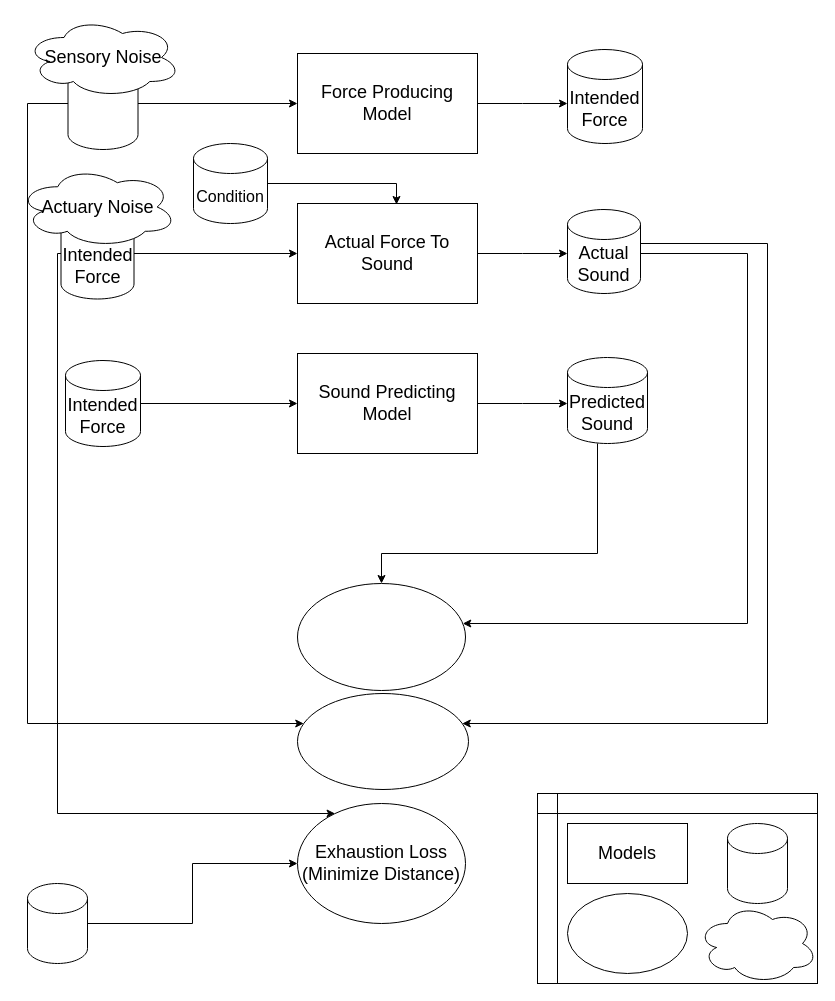
Some shapes in this 835 by 1001 pixel diagram are drawn without their labels. The box of each missing label's shape, as (x1, y1, x2, y2) in pixels:
Instinct: (26, 882, 88, 964)
Losses: (566, 892, 688, 974)
Noise: (696, 902, 818, 984)
Novelty Loss (Maximize Distance): (296, 692, 468, 790)
Past Sound: (67, 56, 138, 150)
Prediction Loss (Minimize Distance): (296, 582, 466, 690)
Values: (726, 822, 788, 904)
